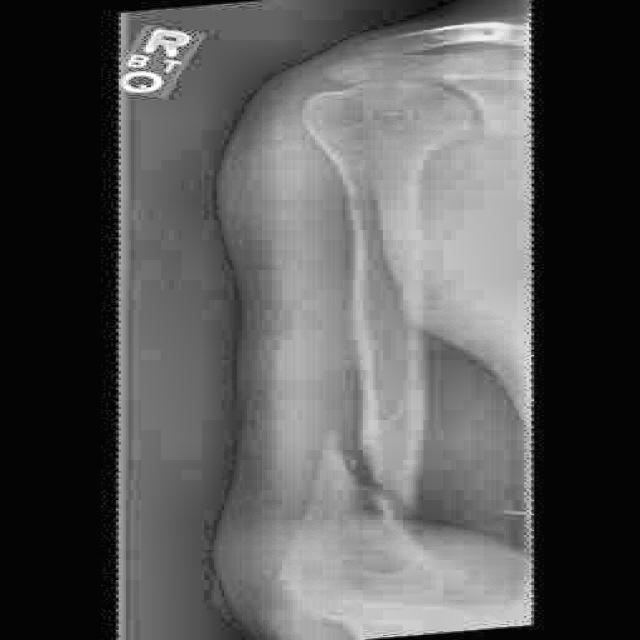humerus: (264, 419, 466, 548)
